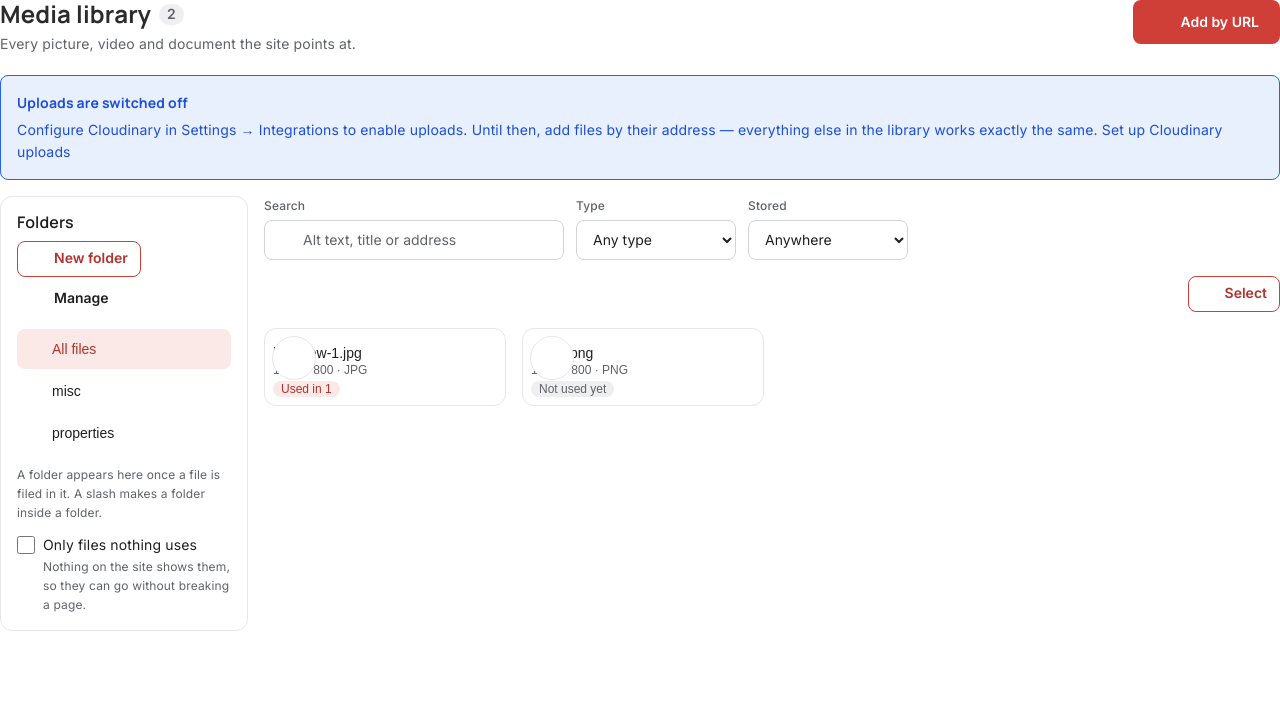
Scenario: deleting › is explicit that the file itself survives — where it actually is (QA-63)
Click the button "lakeview-1.jpg 1200 × 800 · JPG Used in 1" at (385, 366), box x1=264 y1=328 x2=506 y2=406
(page scrolled)
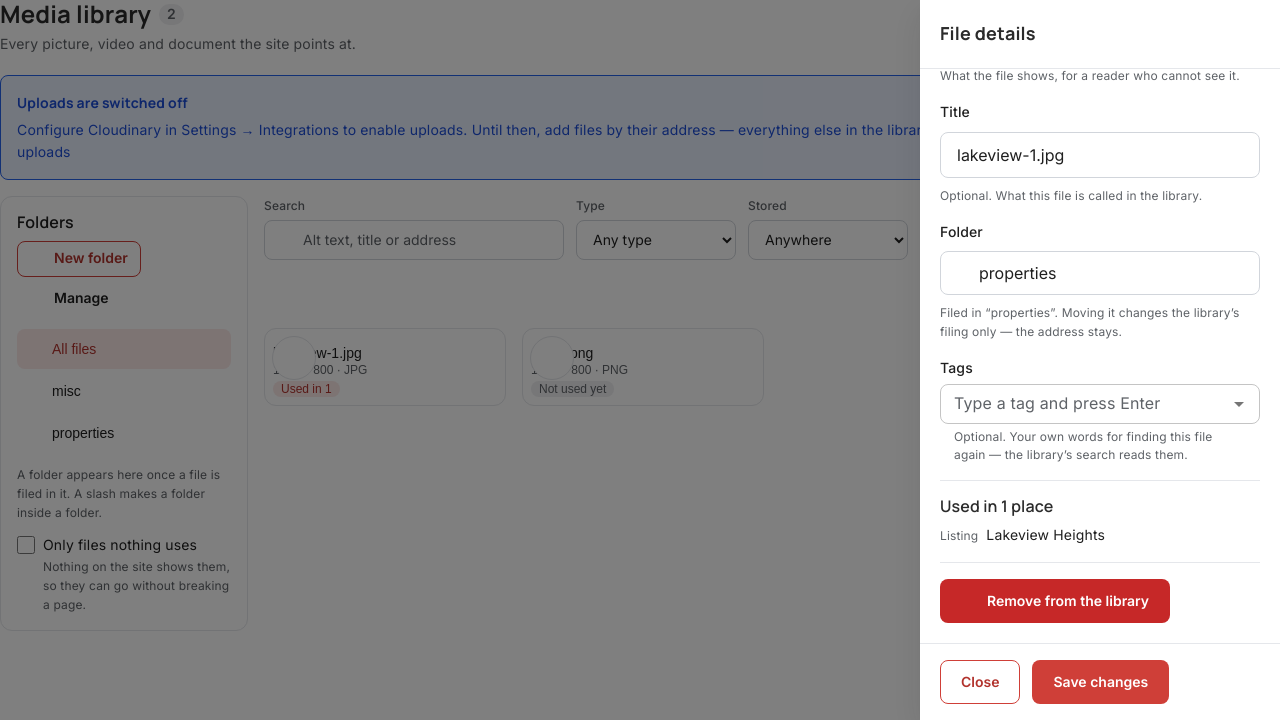
Click the button "Remove from the library" at (1055, 601), box x1=940 y1=579 x2=1170 y2=623
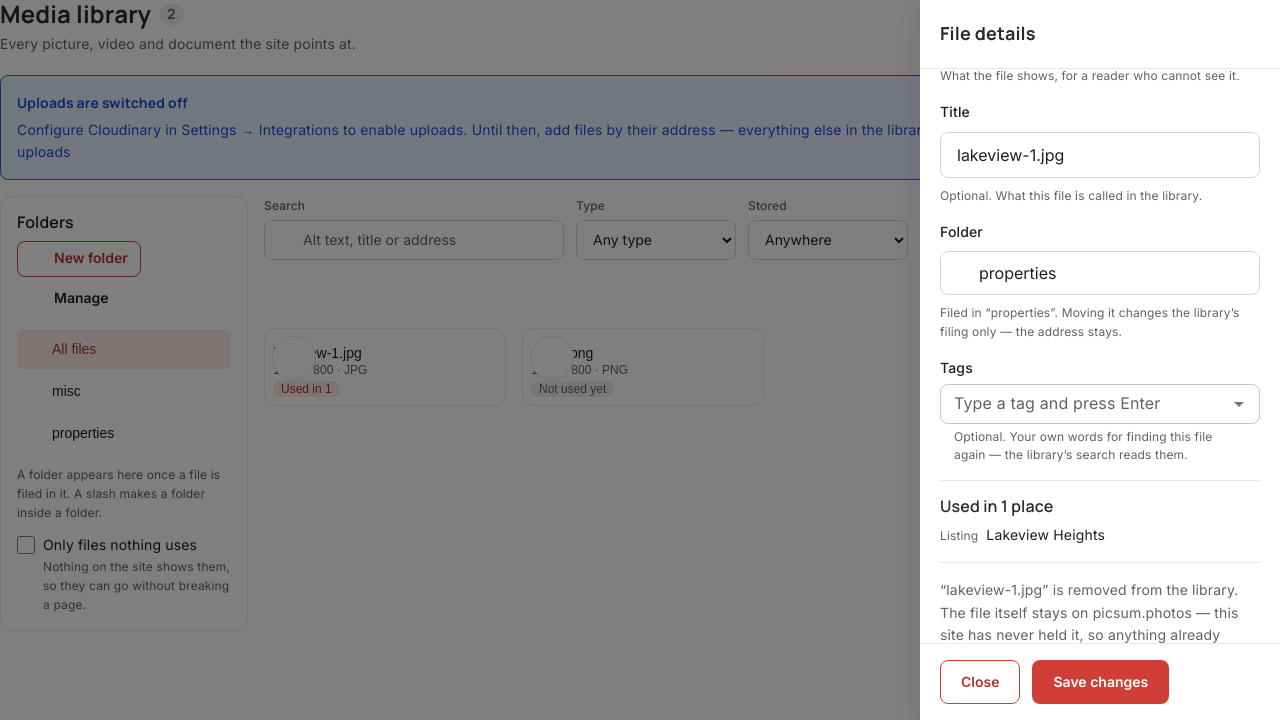
Expected: the text "stays on picsum.photos" is shown, x1=940 y1=579 x2=1260 y2=643
